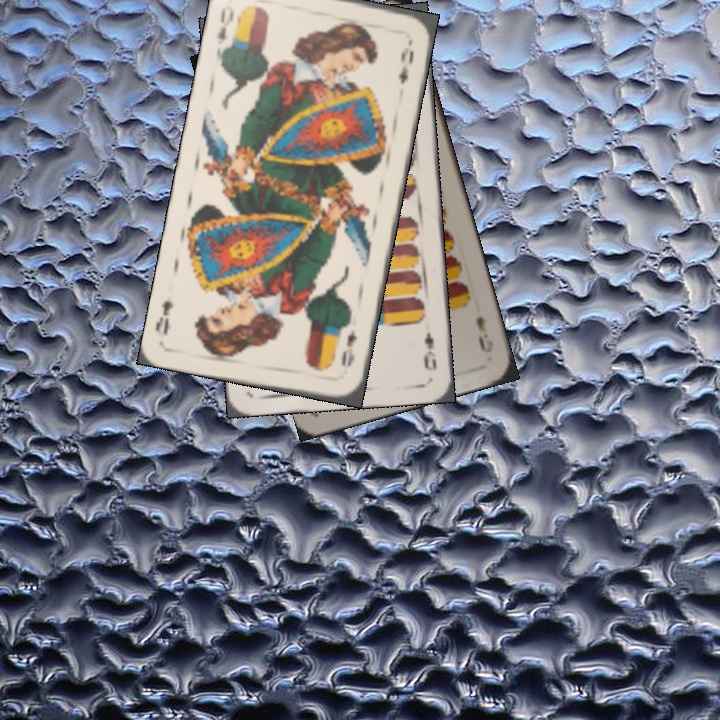E9: (472, 312, 496, 356), (419, 328, 439, 373)
EO: (212, 1, 241, 58), (337, 325, 360, 369)
